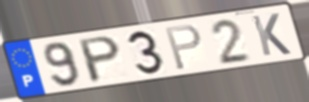2: (209, 17, 252, 66)
3: (127, 28, 167, 79)
9: (42, 41, 83, 89)
K: (249, 12, 294, 58)
P: (77, 34, 123, 86), (163, 23, 203, 72)
